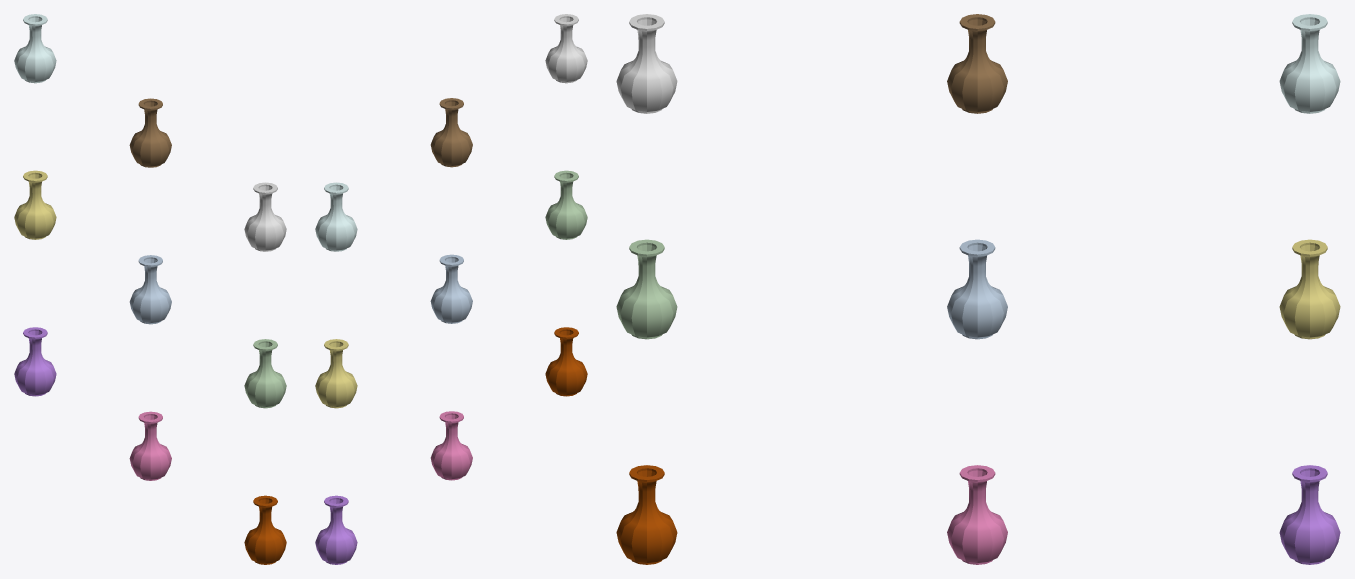
File: vase_4.fbx
3 views of the same model, side by side, from view 1: azimuth 30°, elevation 25°; view 2: azimuth 150°, elevation 25°; view 3: azimuth 270°, elevation 25° (orthographic). The views are drawn at different scales.
Parts seen in each view (by area): view 1: pCylinder233, pCylinder197, pCylinder206, pCylinder242, pCylinder224, pCylinder215, pCylinder179, pCylinder170, pCylinder188; view 2: pCylinder206, pCylinder224, pCylinder233, pCylinder215, pCylinder197, pCylinder242, pCylinder188, pCylinder170, pCylinder179; view 3: pCylinder215, pCylinder242, pCylinder206, pCylinder233, pCylinder197, pCylinder224, pCylinder179, pCylinder188, pCylinder170.
Boxes of the visible parts, x1=… form: pCylinder233: x1=14, y1=14, x2=56, y2=83; pCylinder197: x1=244, y1=339, x2=286, y2=408; pCylinder206: x1=244, y1=182, x2=286, y2=251; pCylinder242: x1=14, y1=327, x2=56, y2=396; pCylinder224: x1=14, y1=170, x2=56, y2=239; pCylinder215: x1=244, y1=495, x2=286, y2=564; pCylinder179: x1=129, y1=98, x2=171, y2=167; pCylinder170: x1=129, y1=255, x2=171, y2=324; pCylinder188: x1=129, y1=411, x2=171, y2=480; pCylinder206: x1=545, y1=14, x2=587, y2=83; pCylinder224: x1=315, y1=339, x2=357, y2=408; pCylinder233: x1=315, y1=182, x2=357, y2=251; pCylinder215: x1=545, y1=327, x2=587, y2=396; pCylinder197: x1=545, y1=170, x2=587, y2=239; pCylinder242: x1=315, y1=495, x2=357, y2=564; pCylinder188: x1=430, y1=411, x2=472, y2=480; pCylinder170: x1=430, y1=254, x2=472, y2=323; pCylinder179: x1=430, y1=98, x2=472, y2=167; pCylinder215: x1=616, y1=465, x2=677, y2=564; pCylinder242: x1=1279, y1=465, x2=1340, y2=564; pCylinder206: x1=616, y1=14, x2=677, y2=113; pCylinder233: x1=1279, y1=14, x2=1340, y2=113; pCylinder197: x1=616, y1=239, x2=677, y2=339; pCylinder224: x1=1279, y1=239, x2=1340, y2=339; pCylinder179: x1=947, y1=14, x2=1007, y2=113; pCylinder188: x1=947, y1=465, x2=1007, y2=564; pCylinder170: x1=947, y1=239, x2=1007, y2=339.
Bounding box in the file's own units: 2.21 × 21.4 × 26.18.
